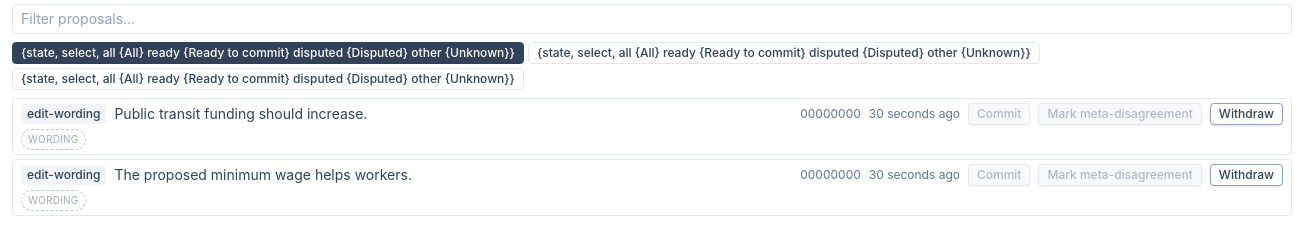
Test: PendingProposalsPane — filter strip › (b) typing in the text input narrows the list to matching rows (case-insensitive substring)
Check: the number of list items with test id "pending-proposal-row" is 2, box [12, 98, 1292, 155]; [12, 159, 1292, 216]
In the search field with test id "pending-proposals-filter-text": (652, 19) [12, 4, 1292, 34], type "MINIMUM"
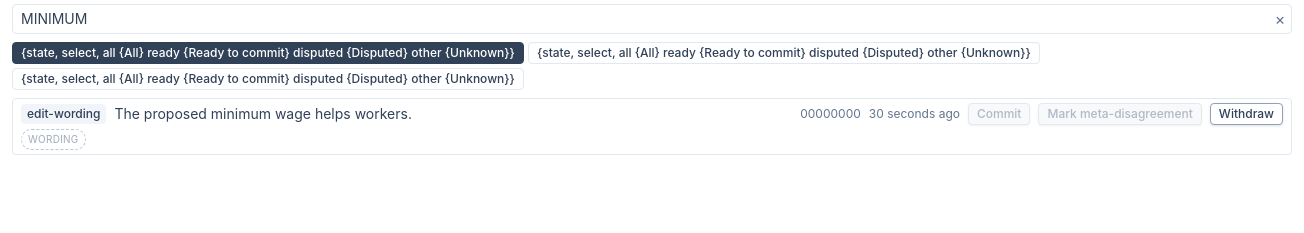
Check: the number of list items with test id "pending-proposal-row" is 1, box [12, 98, 1292, 155]
